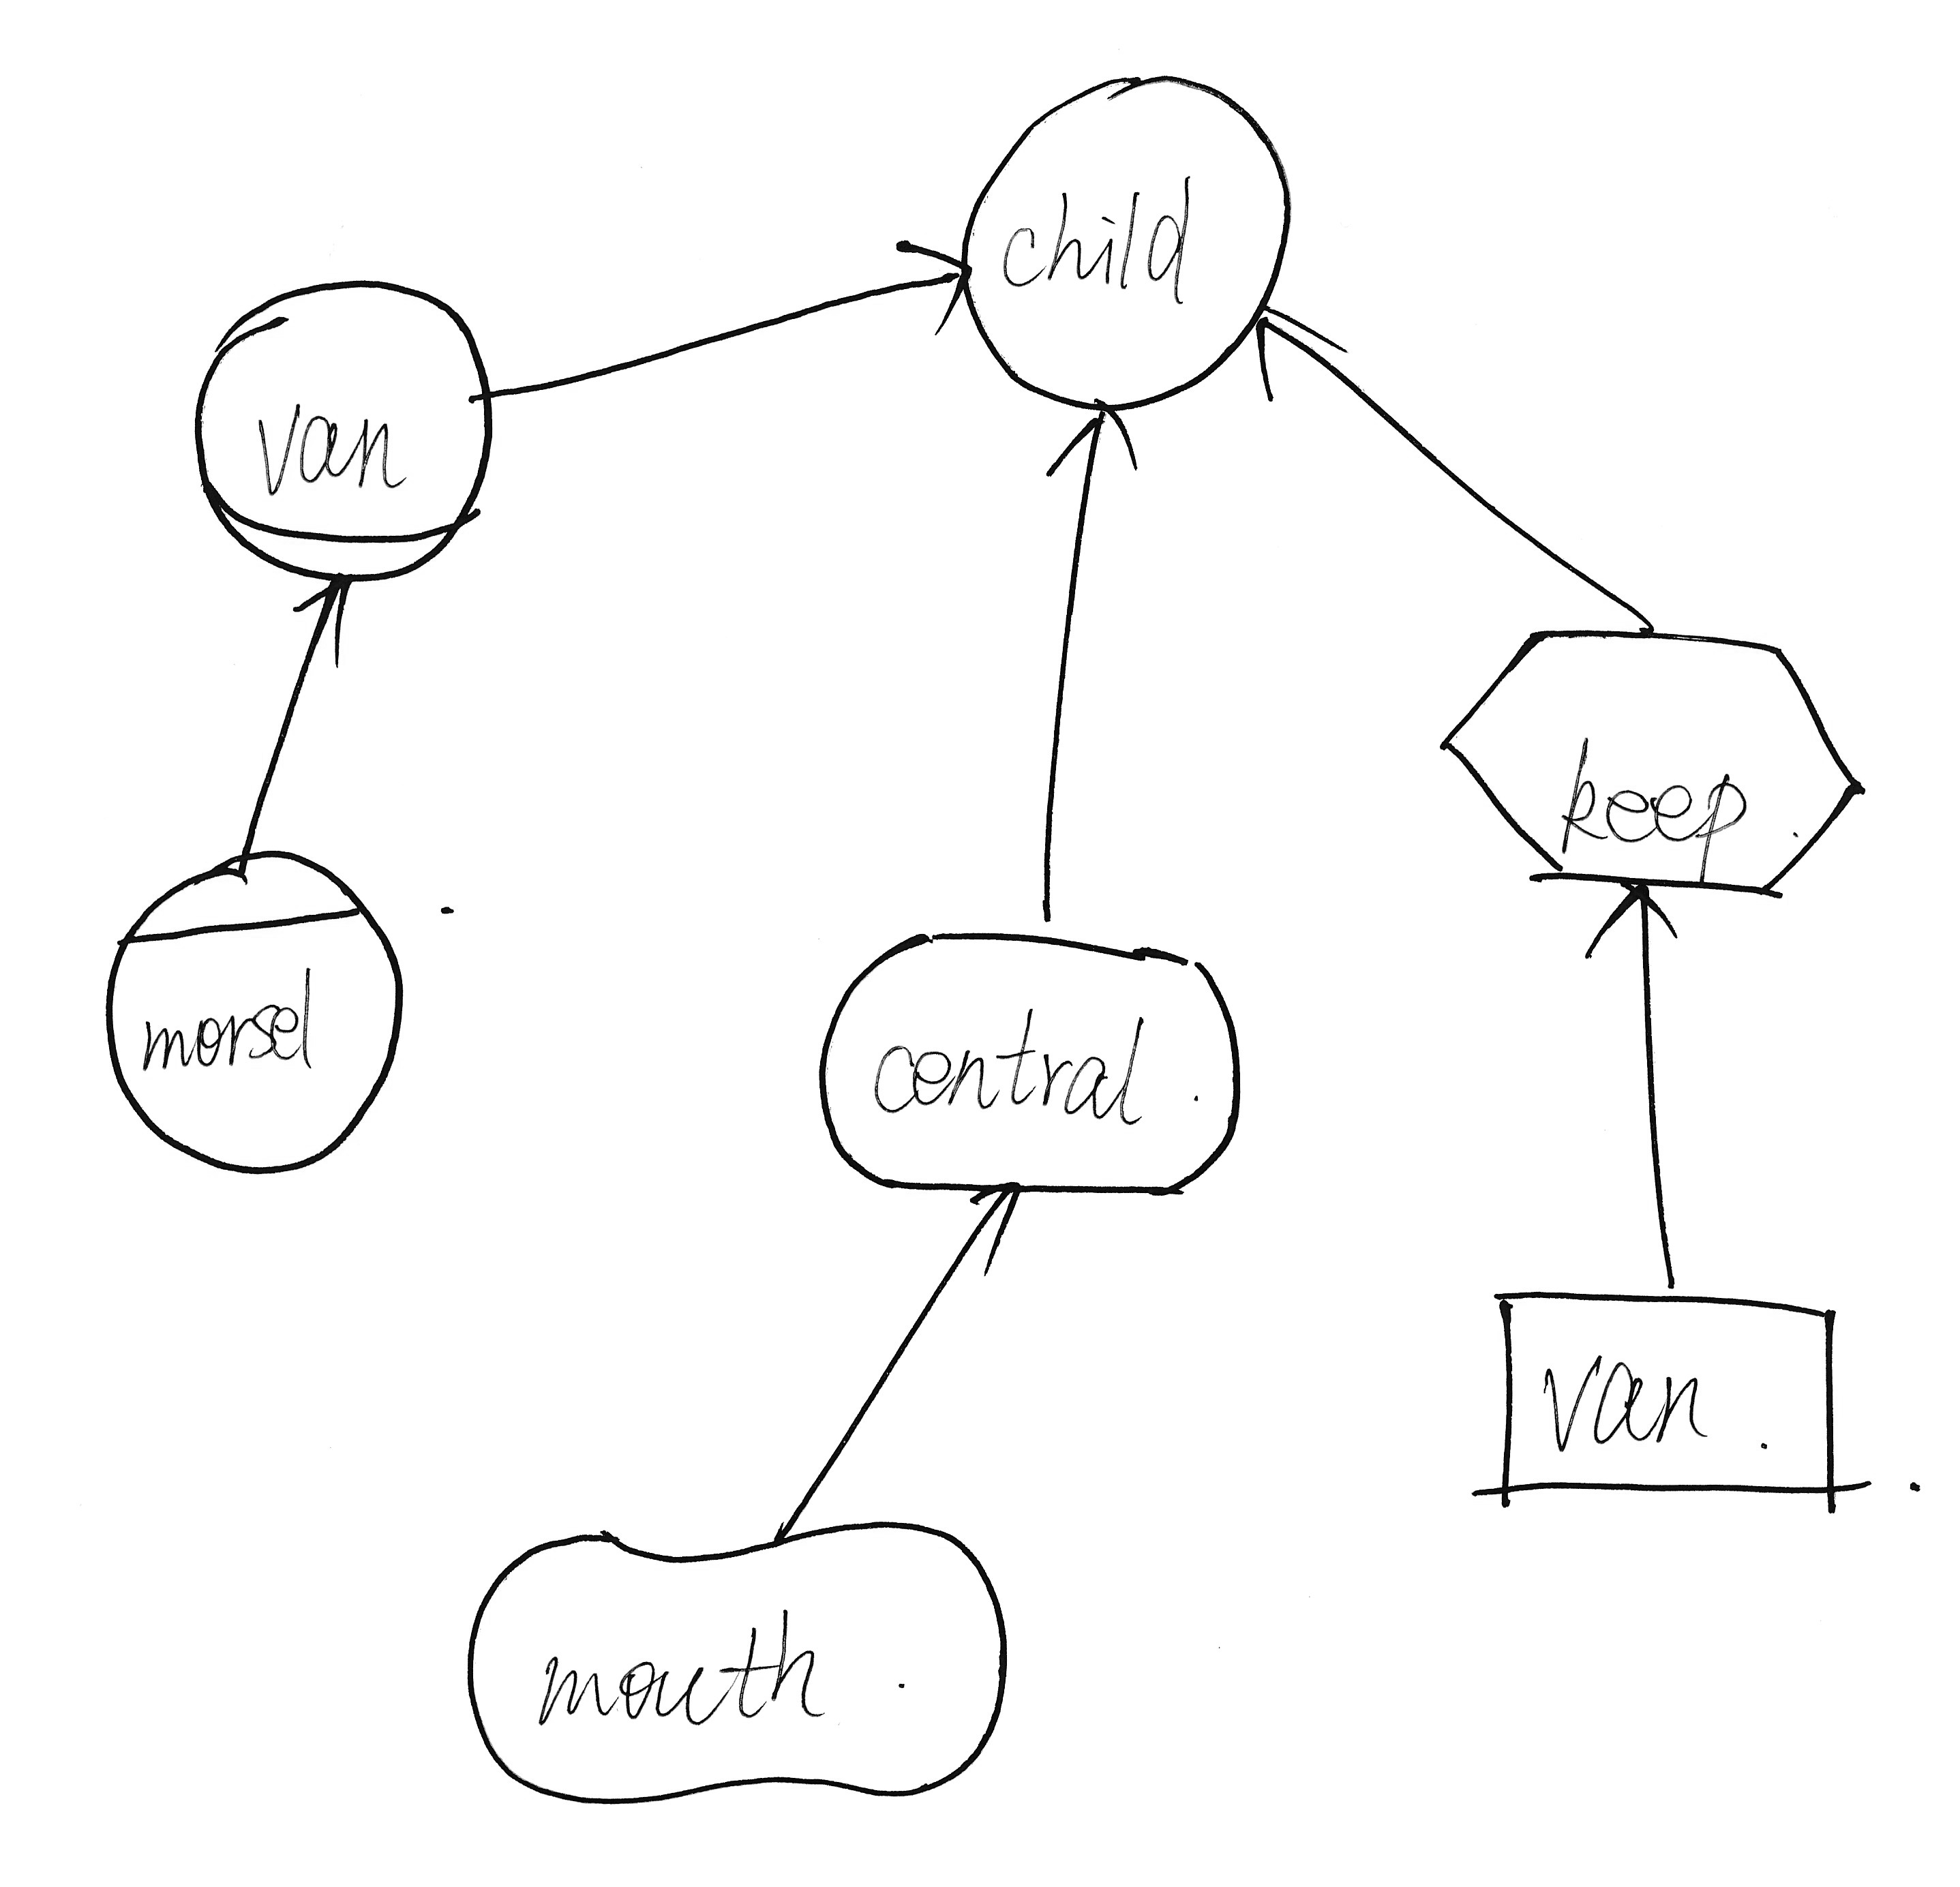actor: (934, 54, 1316, 431)
agent: (79, 838, 423, 1201)
arrow: (1232, 278, 1353, 420), (1034, 382, 1155, 502), (887, 210, 983, 359), (1573, 870, 1701, 968), (955, 1176, 1039, 1290), (275, 562, 362, 670)
goal: (800, 910, 1267, 1218)
quality: (448, 1507, 1039, 1820)
resource: (1454, 1267, 1897, 1533)
role: (171, 261, 509, 618)
task: (1416, 602, 1892, 921)
